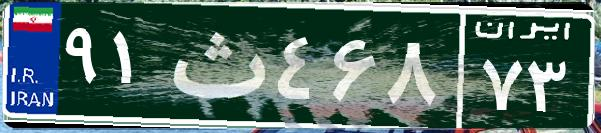1: (110, 28, 158, 105)
3: (525, 38, 570, 115)
4: (273, 28, 330, 110)
6: (330, 28, 385, 110)
7: (475, 38, 525, 113)
8: (385, 28, 445, 110)
9: (57, 26, 110, 107)
ث: (158, 15, 273, 115)
